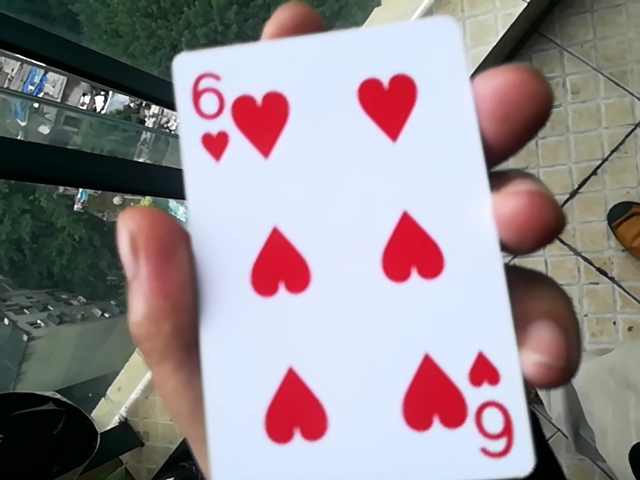hx 6: (158, 15, 526, 480)
